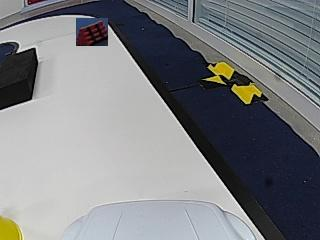block: (0, 48, 37, 110)
cone: (0, 216, 23, 239)
